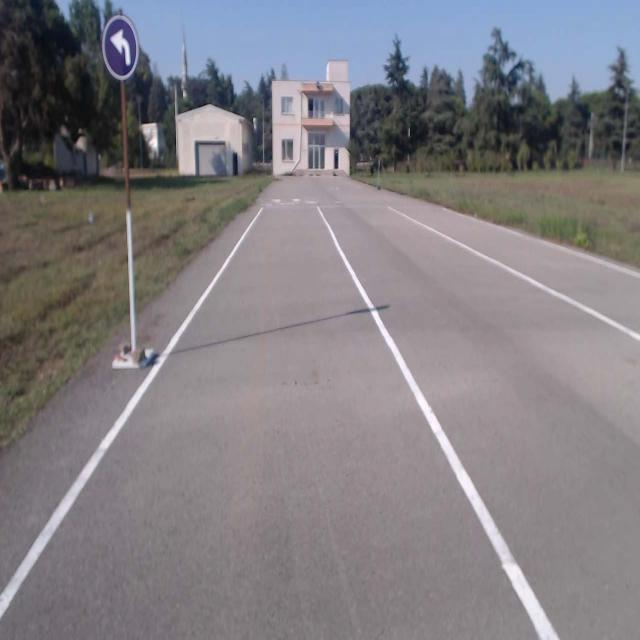sol: (102, 16, 138, 79)
